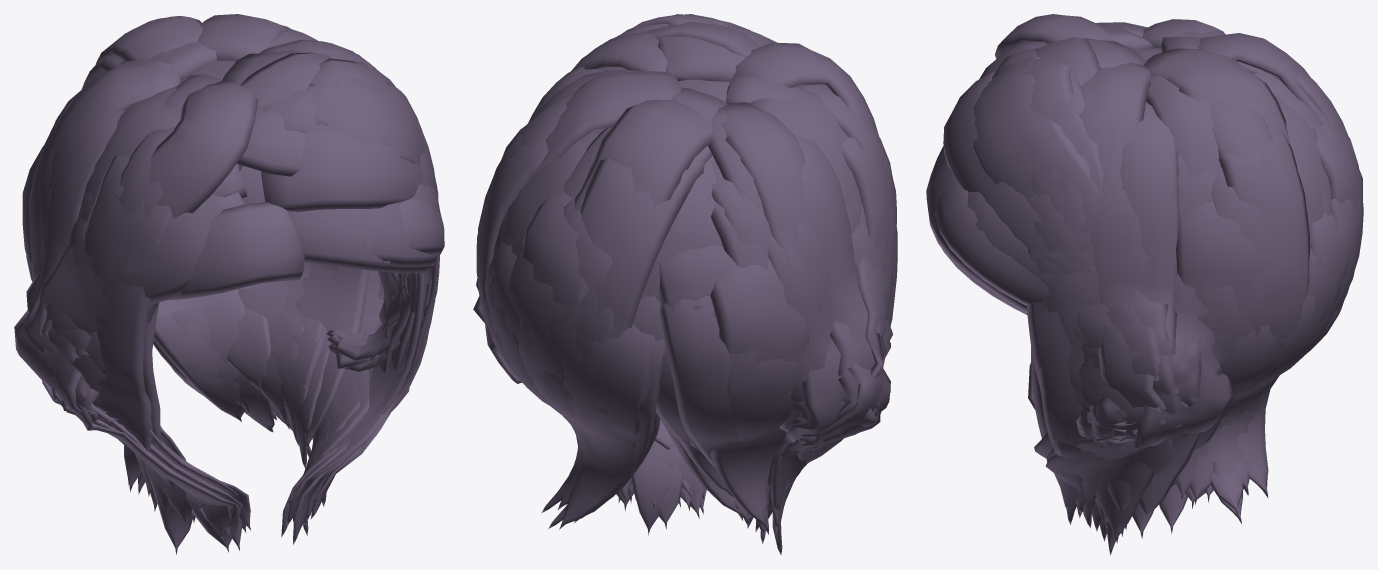
The model's file is hair_anime_female_bob.glb.
The picture shows the model from 3 angles, left to right: view 1: azimuth 30°, elevation 25°; view 2: azimuth 150°, elevation 25°; view 3: azimuth 270°, elevation 25°; orthographic projection. The views are drawn at different scales.
Visible parts, largest first — view 1: AF_Hair_Bob.001; view 2: AF_Hair_Bob.001; view 3: AF_Hair_Bob.001.
Boxes of the visible parts, x1,y1,x2,y2 form: AF_Hair_Bob.001: [14, 14, 444, 554]; AF_Hair_Bob.001: [473, 14, 897, 555]; AF_Hair_Bob.001: [926, 14, 1363, 555].
Bounding box in the file's own units: 0.2509 × 0.2997 × 0.241.
